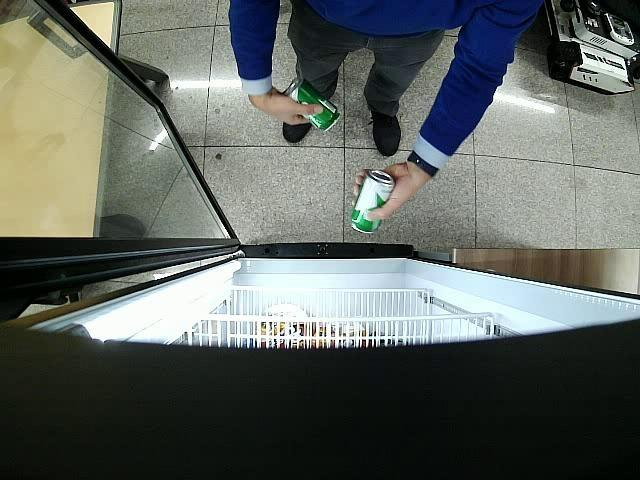12_chilsungCider: (282, 76, 343, 134), (350, 169, 396, 233)
